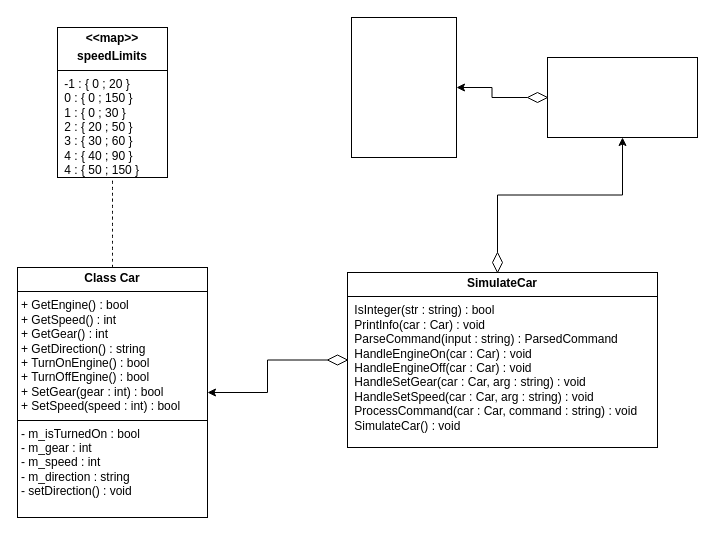
The diagram is 715 pixels wide and 535 high, and some of its shapes have lost their labels. The shapes that lost their labels are listed below. From the top down, each one's centre as x and y in pixels, then its label:
At [403,87]: "<<enumeration>> CommandType INFO ENGINE_ON ENGINE_OFF SET_GEAR SET_SPEED UNKNOWN".
At [622,97]: "ParsedCommand + type : CommandType + argument : string + hasArgument : bool".
